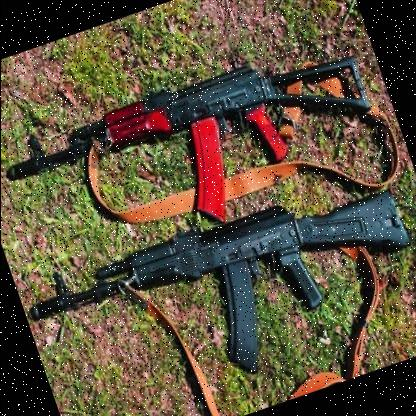rifle: (21, 162, 416, 416), (0, 27, 391, 280)
